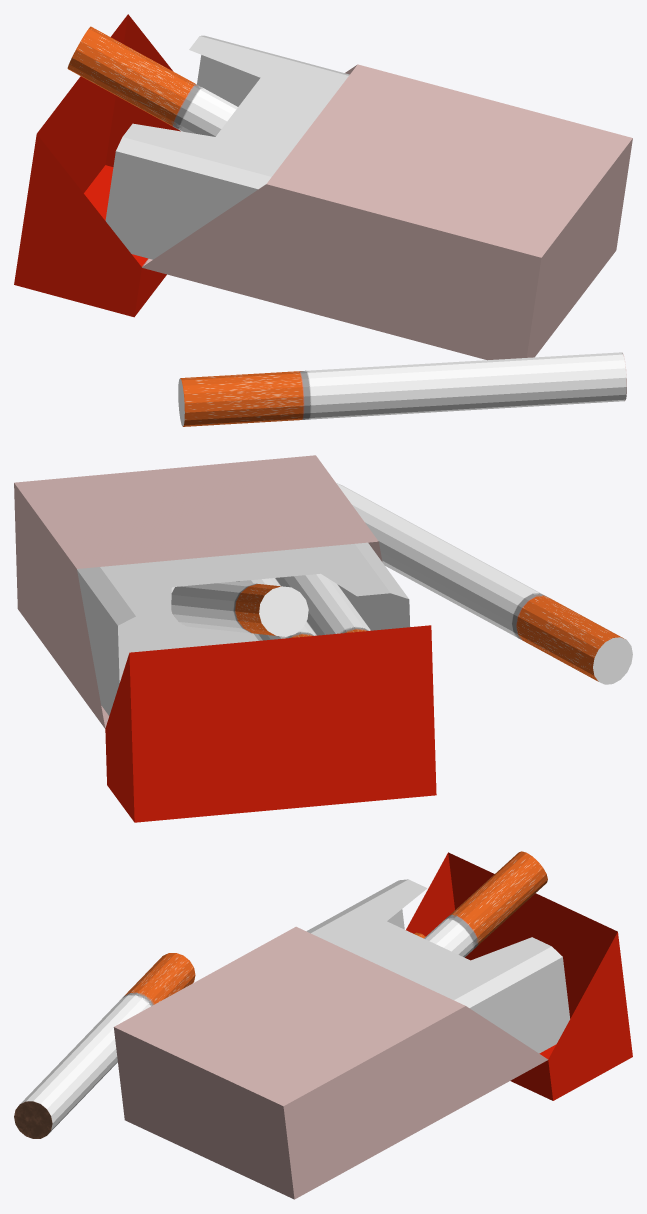
Rendered from Cigarettes.fbx.
3 renders of one model, top to bottom at view 1: azimuth 30°, elevation 25°; view 2: azimuth 150°, elevation 25°; view 3: azimuth 270°, elevation 25°, orthographic. The views are drawn at different scales.
Parts seen in each view (by area): view 1: Cigarettes; view 2: Cigarettes; view 3: Cigarettes.
Boxes of the visible parts, <box> form: Cigarettes: <box>14,14,632,426</box>; Cigarettes: <box>14,455,632,822</box>; Cigarettes: <box>14,851,632,1199</box>.
Bounding box in the file's own units: 20.26 × 8.06 × 24.45.
Materials: 3 (1 with a texture image).
